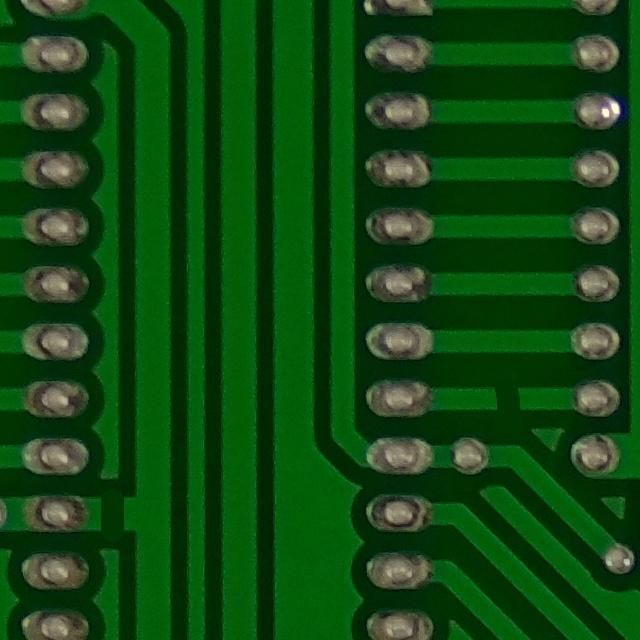open_circuit: (90, 488, 137, 542), (483, 375, 536, 420)
